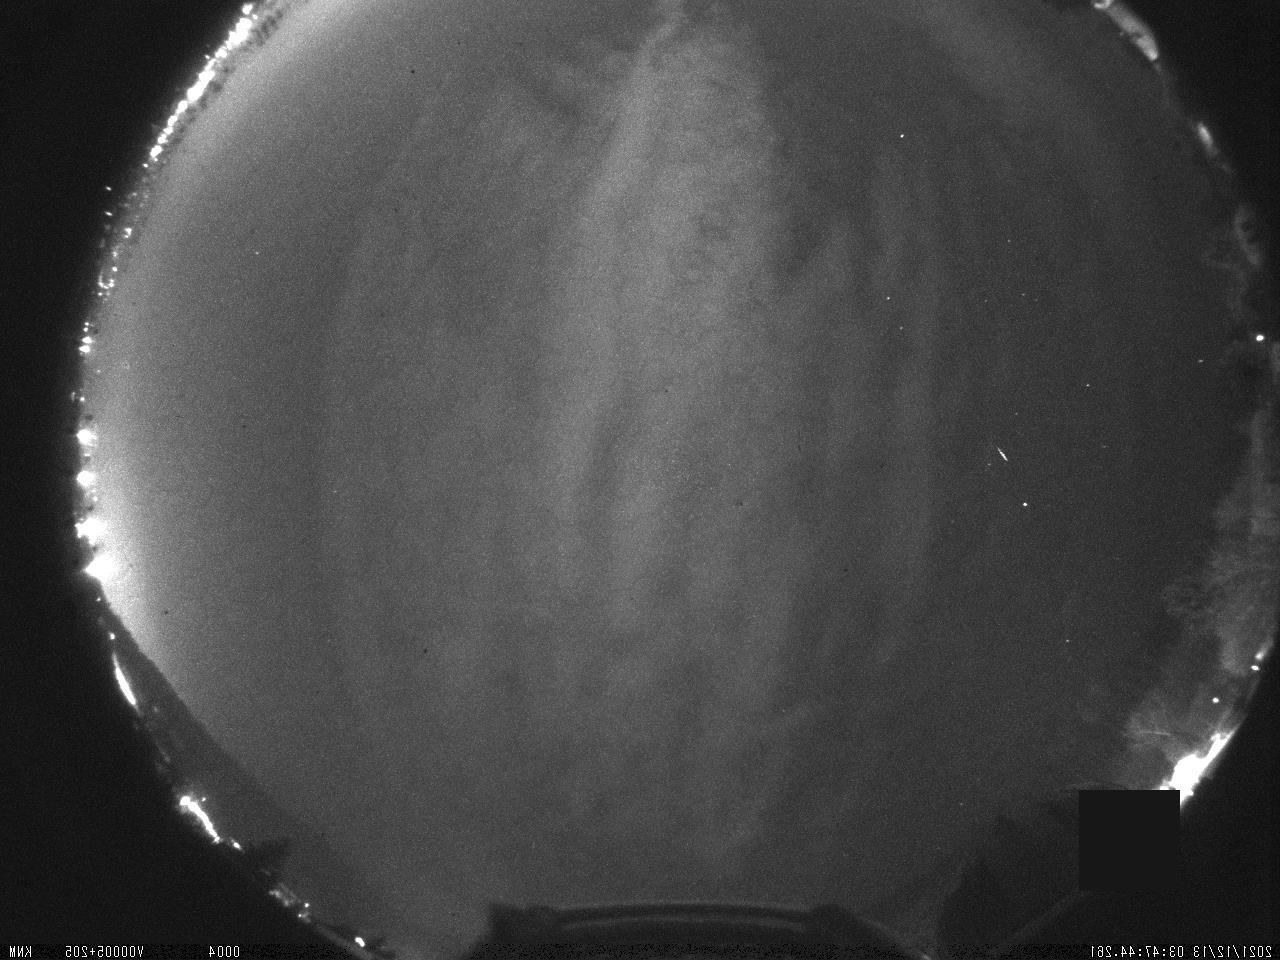meteor: (986, 438, 1028, 468)
